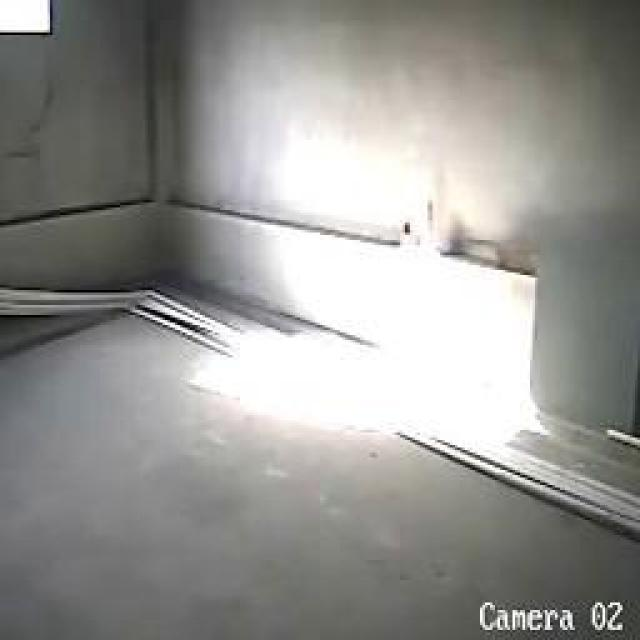other: (229, 130, 558, 453)
